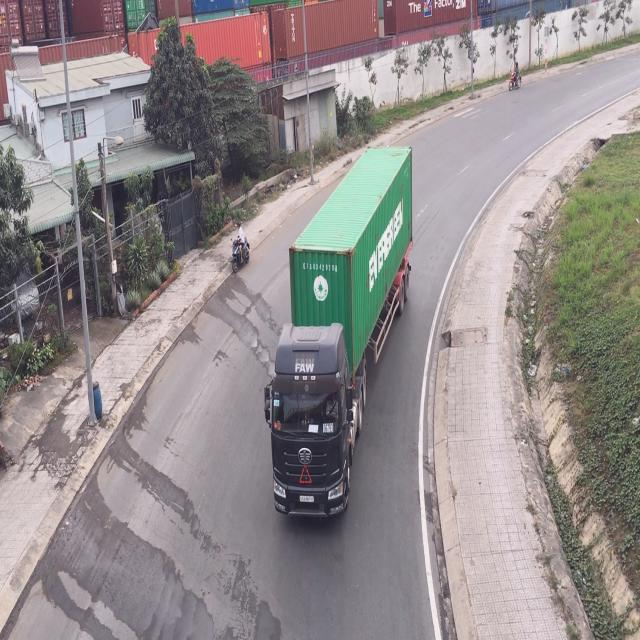motorbike: (232, 225, 252, 275), (510, 62, 522, 93)
truck: (263, 140, 410, 521)
